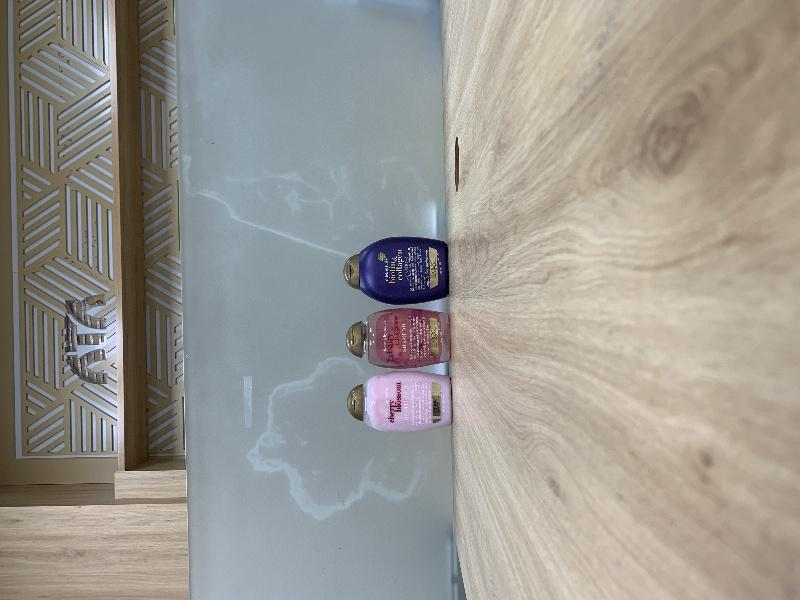BiotinCollagen_Shampoo: (343, 236, 449, 305)
CherryBlossom_Conditioner: (347, 371, 452, 432)
CherryBlossom_Shampoo: (346, 308, 451, 369)
